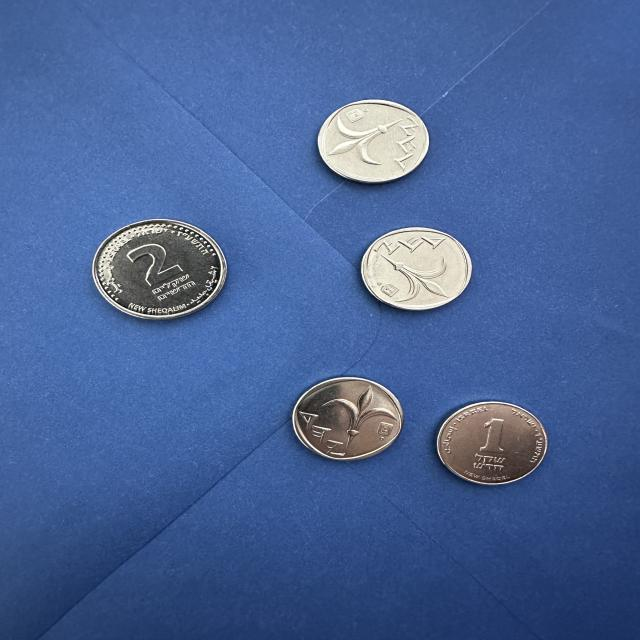1-shekel: (432, 398, 552, 487), (288, 374, 404, 464), (356, 224, 476, 310), (318, 97, 433, 185)
2-shekel: (90, 216, 230, 322)
